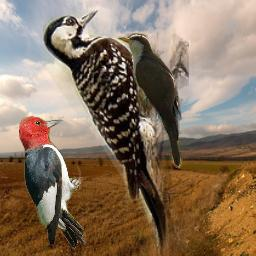Cuckoo: (117, 33, 185, 169)
Woodpecker: (43, 10, 189, 256), (19, 115, 87, 249)
